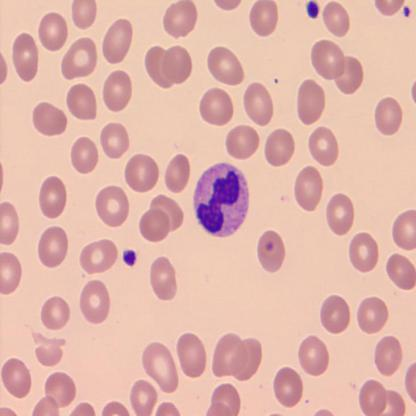Segmented neutrophil: (192, 159, 251, 240)
